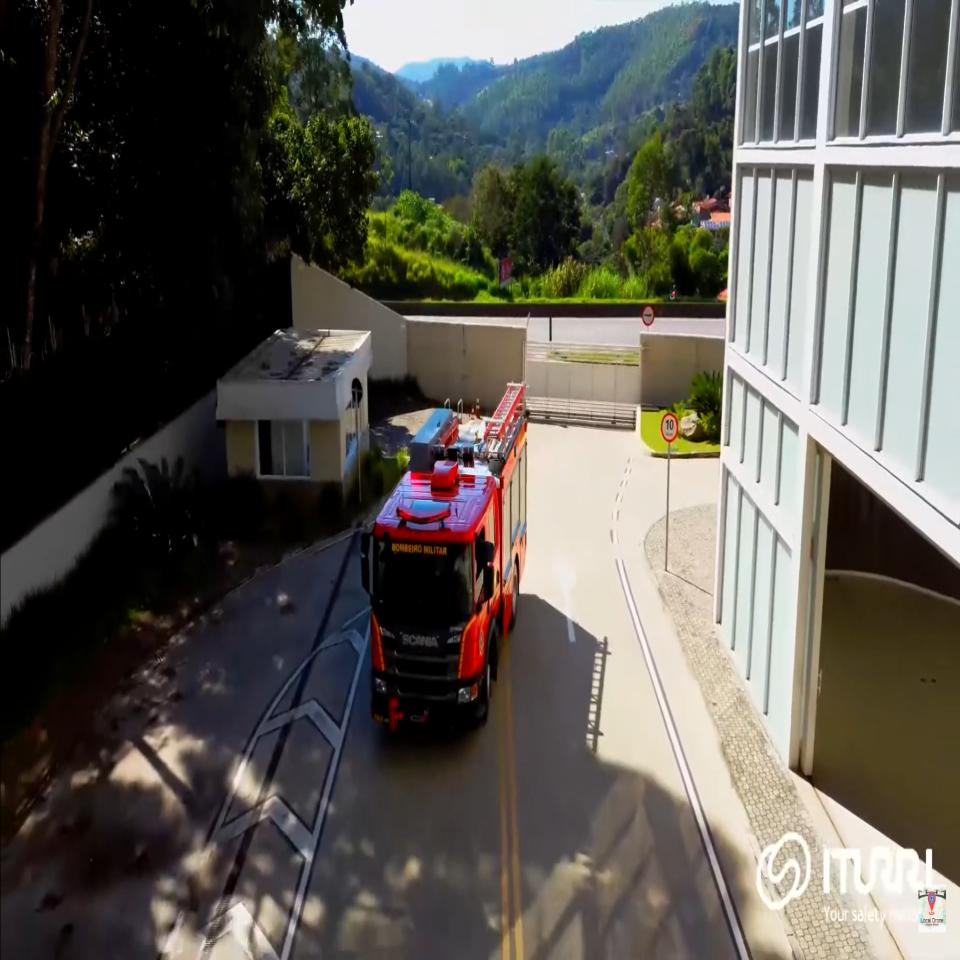viatura: (360, 380, 530, 742)
